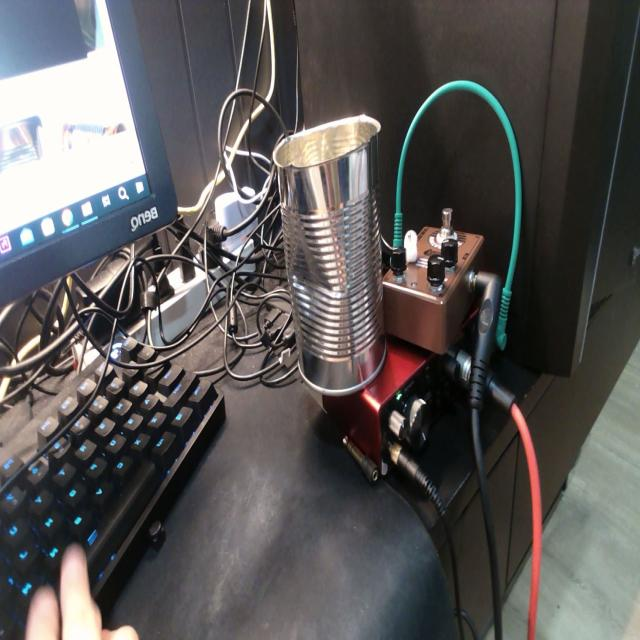metal: (280, 106, 383, 398)
